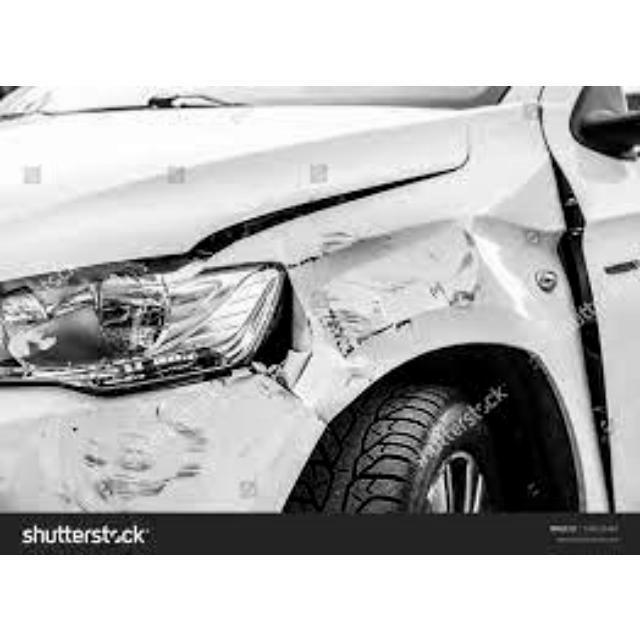Headlight-damage: (1, 249, 306, 415)
fender-dent: (296, 168, 572, 502)
front-bumper-dent: (1, 364, 338, 510)
